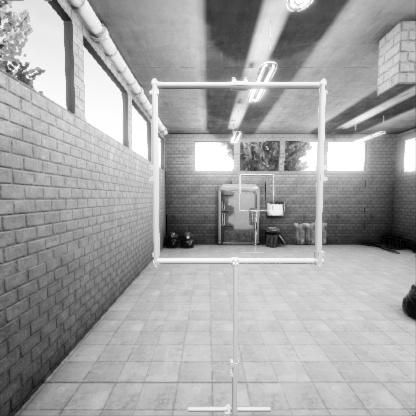gate: (156, 161, 333, 336), (239, 206, 276, 243)
